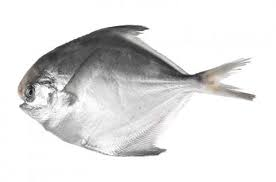Ikan Bawal: (17, 25, 249, 156)
